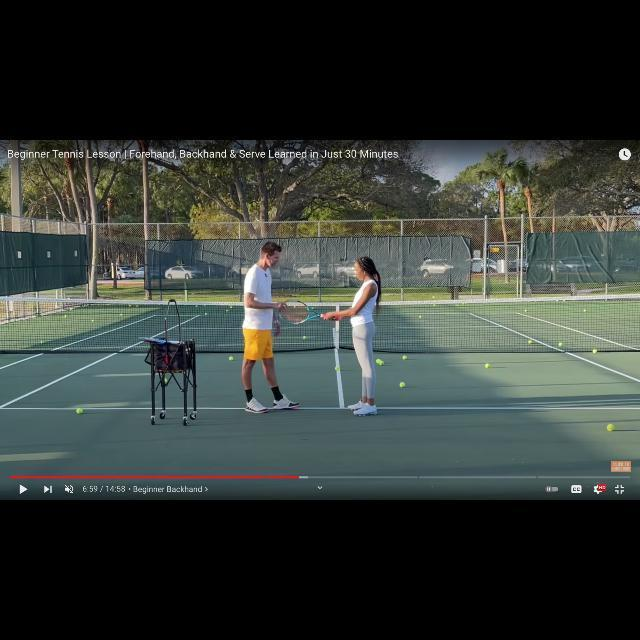tennis-ball: (606, 424, 614, 431), (76, 408, 82, 414), (228, 356, 234, 360), (485, 362, 489, 368), (400, 382, 404, 388), (592, 349, 596, 353), (402, 355, 406, 359), (379, 361, 383, 365), (335, 366, 339, 370)
